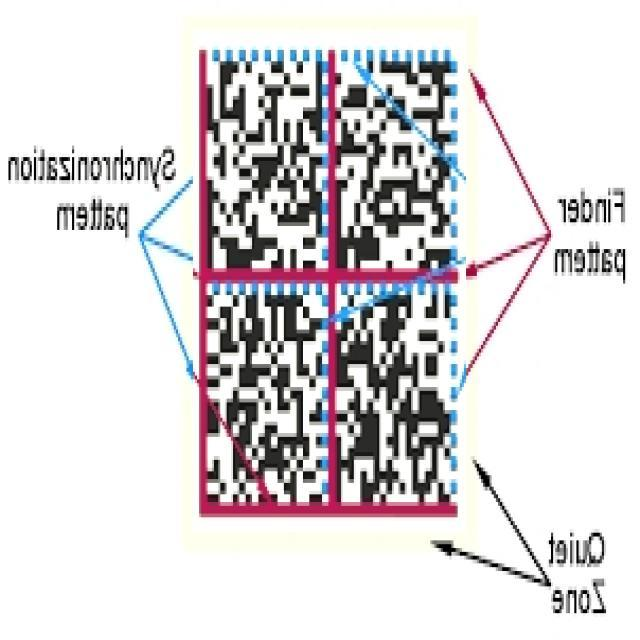Data-Matrix: (193, 31, 466, 533)
